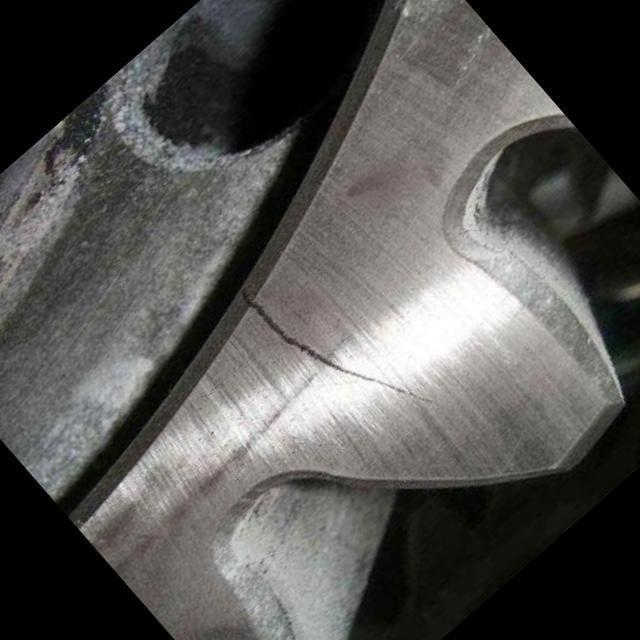defect: (234, 284, 443, 408)
